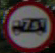Heavy Vehicles: (6, 5, 51, 45)
